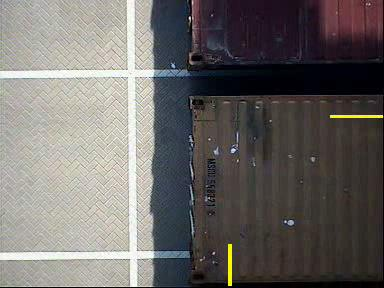groundmarker_2: (105, 219, 161, 259), (103, 68, 158, 108)
